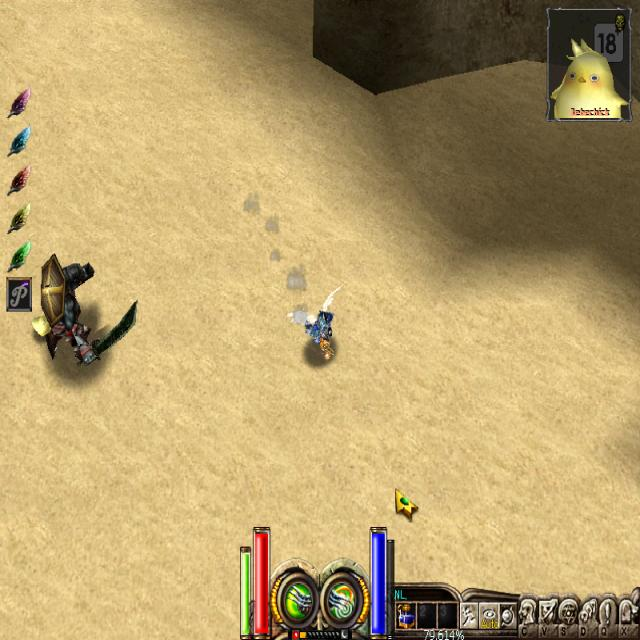monster: (36, 243, 124, 383)
